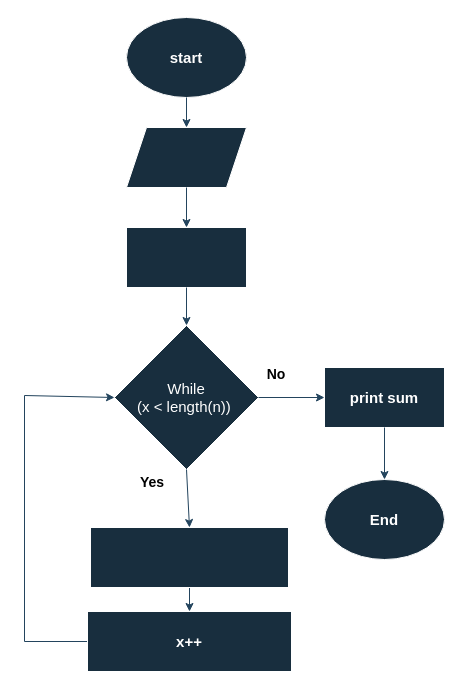
Image size: 462x689. Some labels were removed from this diagram. Here are the shapes that lost their labels. From the top down, the box of each, then its label:
(126, 126, 246, 188): input n [ ]
(126, 226, 246, 288): set sum = 0 set x = 0
(90, 526, 288, 588): sum = sum + (n [x] * n [x] )
